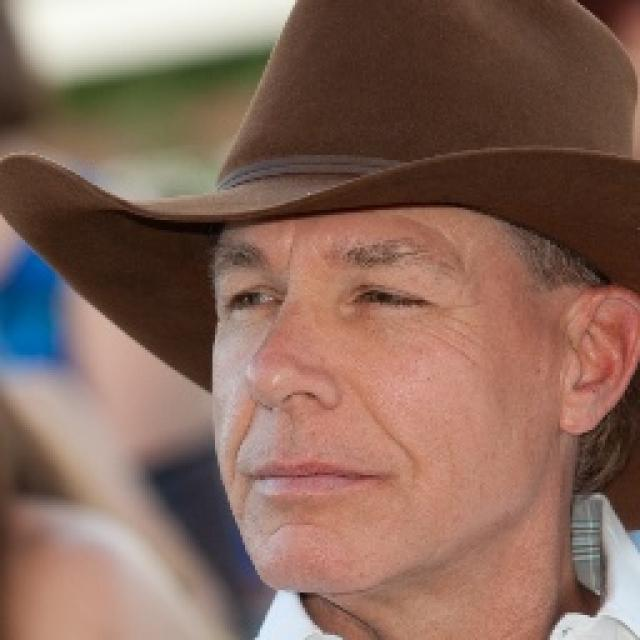earlobe: (555, 386, 600, 436)
eye: (347, 286, 425, 310), (226, 288, 276, 312)
nose: (241, 371, 335, 462)
wholeear: (552, 283, 640, 435)
